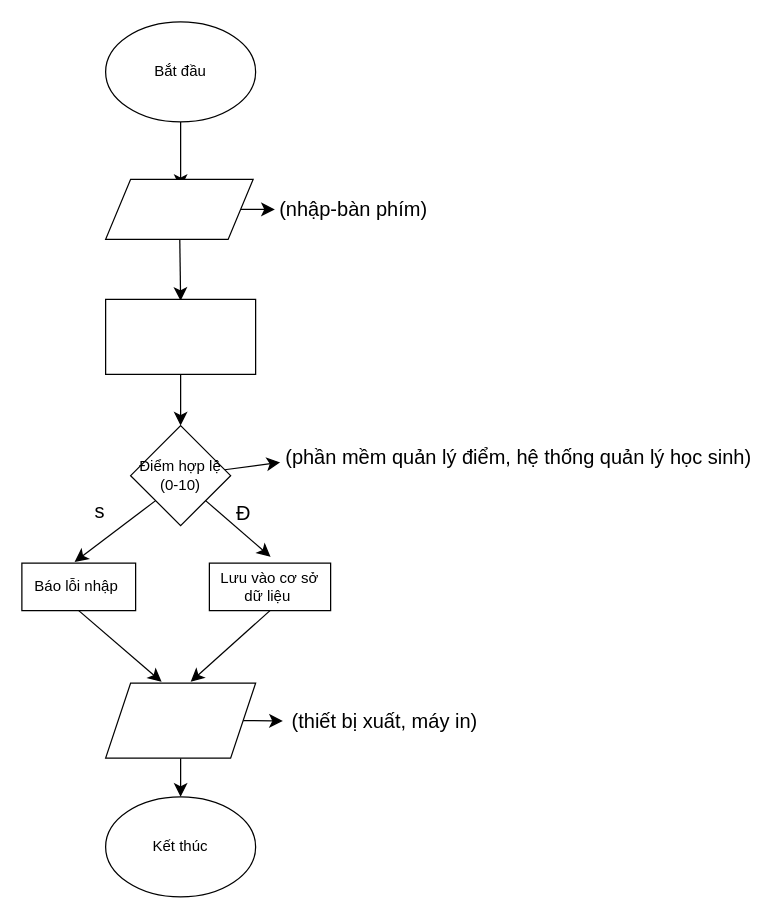
The diagram is 784 pixels wide and 919 high, and some of its shapes have lost their labels. Here are the shapes that lost their labels. From the top down, the box of each, then its label:
(104, 178, 253, 239): Nhập điểm (input)
(104, 298, 256, 374): Xử lý: tính điểm TB
(104, 682, 256, 758): Hiển thị kết
